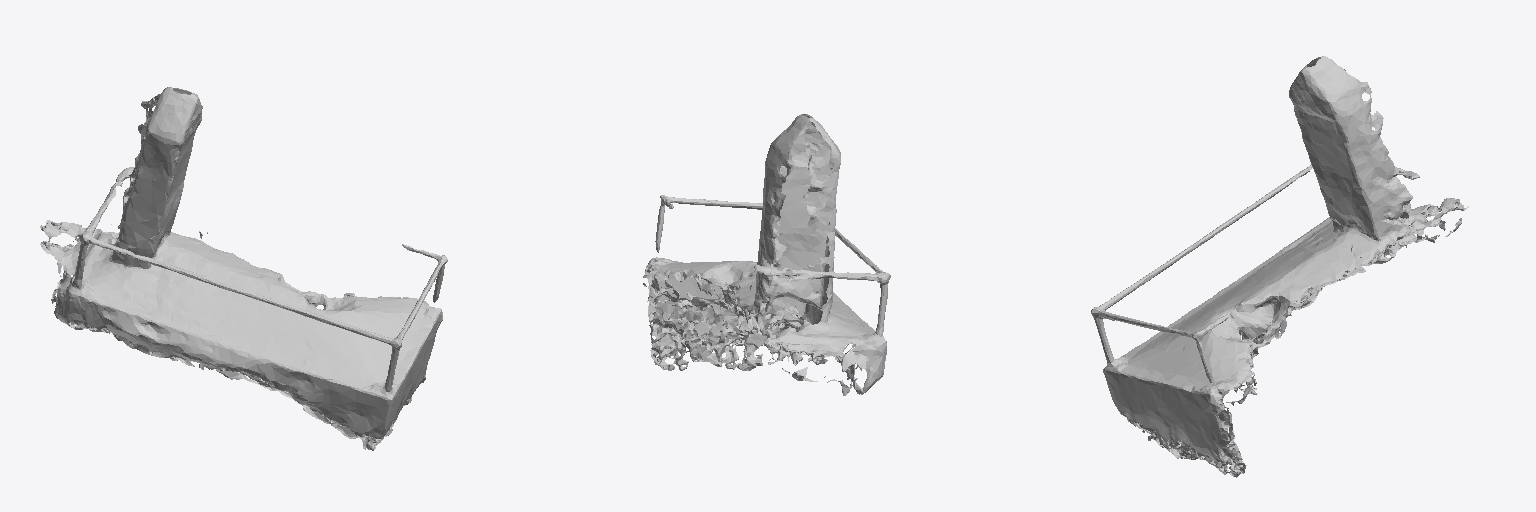
File: grannysGrave_lowpoly.obj
3 renders of one model, left to right at view 1: azimuth 30°, elevation 25°; view 2: azimuth 150°, elevation 25°; view 3: azimuth 270°, elevation 25°, orthographic.
Size of the model in its own units: 3.76 by 3.94 by 4.01.